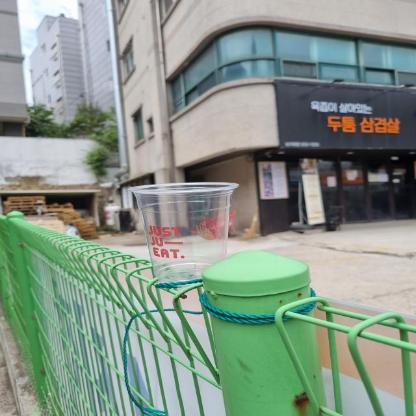Plastic Cup: (131, 182, 242, 288)
